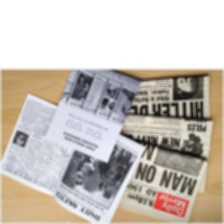news_paper: (0, 91, 150, 223), (42, 67, 143, 165), (107, 138, 212, 224), (112, 112, 216, 198), (119, 70, 215, 138)
